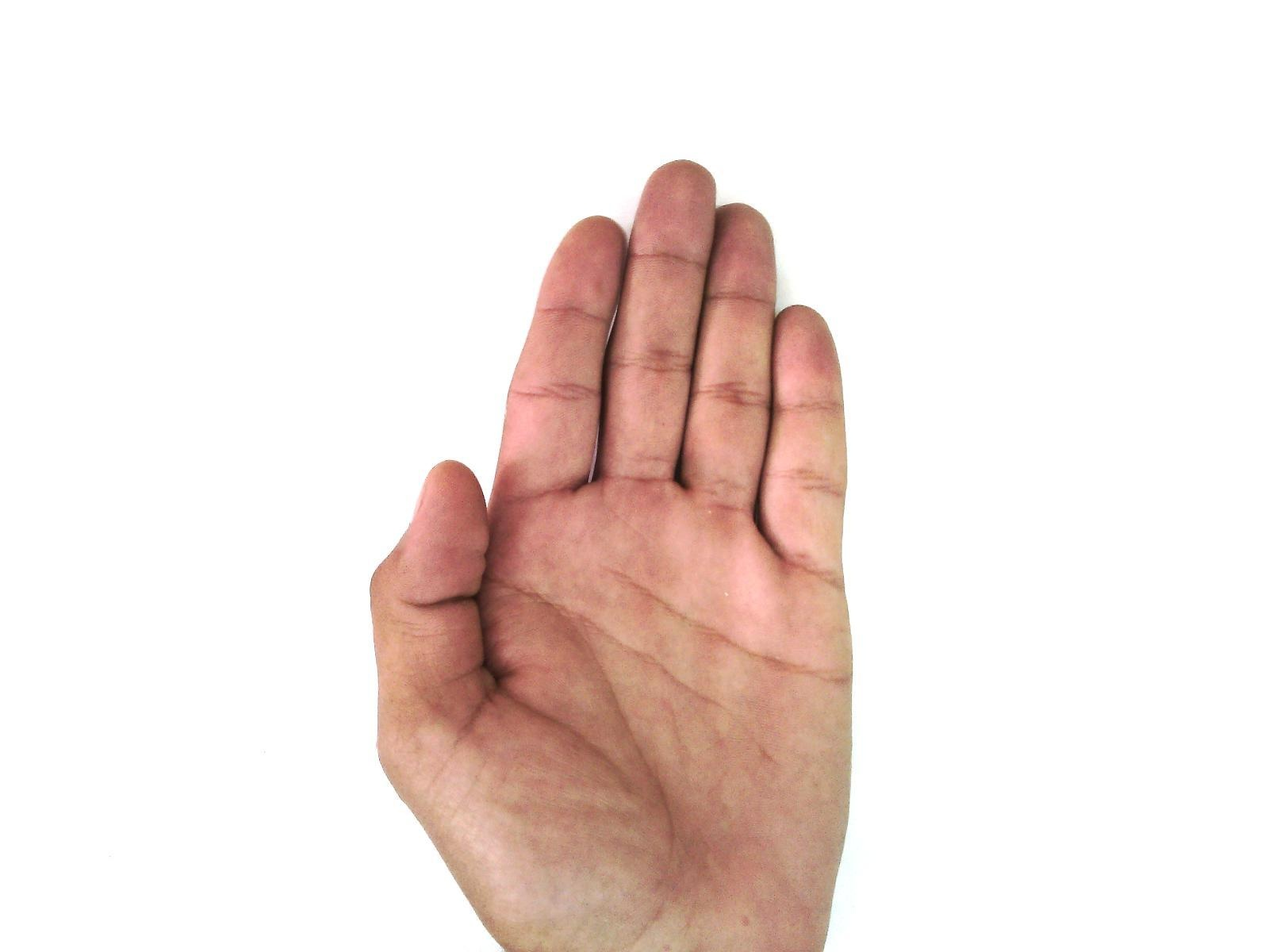open_palm: (367, 159, 858, 951)
